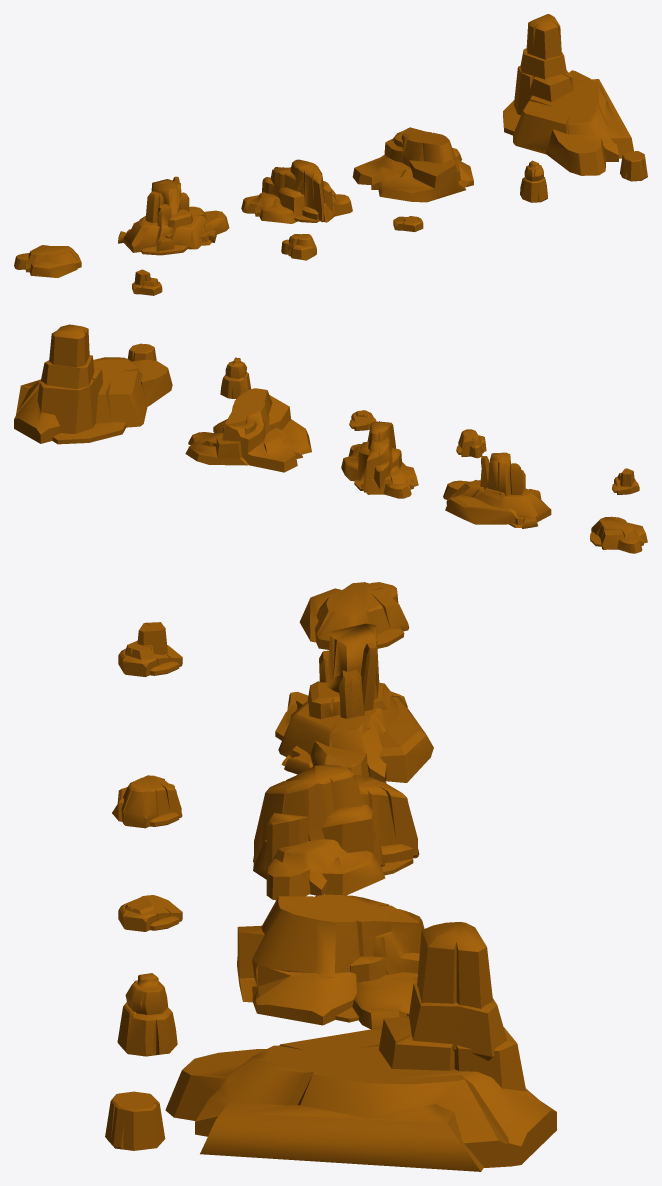
The model's file is rocksforrace.fbx.
3 renders of one model, top to bottom at view 1: azimuth 30°, elevation 25°; view 2: azimuth 150°, elevation 25°; view 3: azimuth 270°, elevation 25°, orthographic. The views are drawn at different scales.
Parts seen in each view (by area): view 1: Cube.005, Cube.004, Cube.002, Cube.003, Cube.001, Cube.008, Cube.007, Cube.009, Cube.006, Cube; view 2: Cube.005, Cube.004, Cube.002, Cube.003, Cube.001, Cube.008, Cube.007, Cube.006, Cube.009, Cube; view 3: Cube.005, Cube.004, Cube.003, Cube.002, Cube.001, Cube.008, Cube.009, Cube.007, Cube.006, Cube.
Boxes of the visible parts, x1,y1,x2,y2 form: Cube.005: [503, 14, 633, 175]; Cube.004: [352, 127, 473, 202]; Cube.002: [118, 176, 229, 255]; Cube.003: [241, 159, 352, 223]; Cube.001: [14, 245, 81, 277]; Cube.008: [520, 160, 547, 202]; Cube.007: [281, 234, 316, 260]; Cube.009: [620, 151, 647, 181]; Cube.006: [132, 269, 162, 295]; Cube: [393, 216, 423, 231]; Cube.005: [14, 324, 172, 444]; Cube.004: [185, 388, 311, 472]; Cube.002: [443, 452, 551, 528]; Cube.003: [341, 421, 418, 498]; Cube.001: [590, 516, 647, 553]; Cube.008: [220, 357, 251, 398]; Cube.007: [456, 429, 486, 458]; Cube.006: [612, 468, 639, 494]; Cube.009: [127, 343, 156, 361]; Cube: [349, 410, 376, 430]; Cube.005: [165, 922, 556, 1171]; Cube.004: [237, 894, 424, 1029]; Cube.003: [253, 765, 419, 900]; Cube.002: [275, 623, 433, 782]; Cube.001: [299, 582, 409, 649]; Cube.008: [117, 973, 177, 1056]; Cube.009: [105, 1091, 165, 1150]; Cube.007: [112, 775, 182, 828]; Cube.006: [118, 622, 182, 676]; Cube: [118, 895, 182, 931].
Bounding box in the file's own units: 6270 × 1044 × 2042.
Materials: 1 (1 with a texture image).
